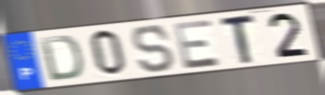0: (88, 27, 129, 79)
2: (267, 12, 311, 61)
D: (38, 34, 85, 83)
E: (171, 18, 224, 71)
S: (130, 24, 178, 75)
T: (219, 12, 258, 66)
